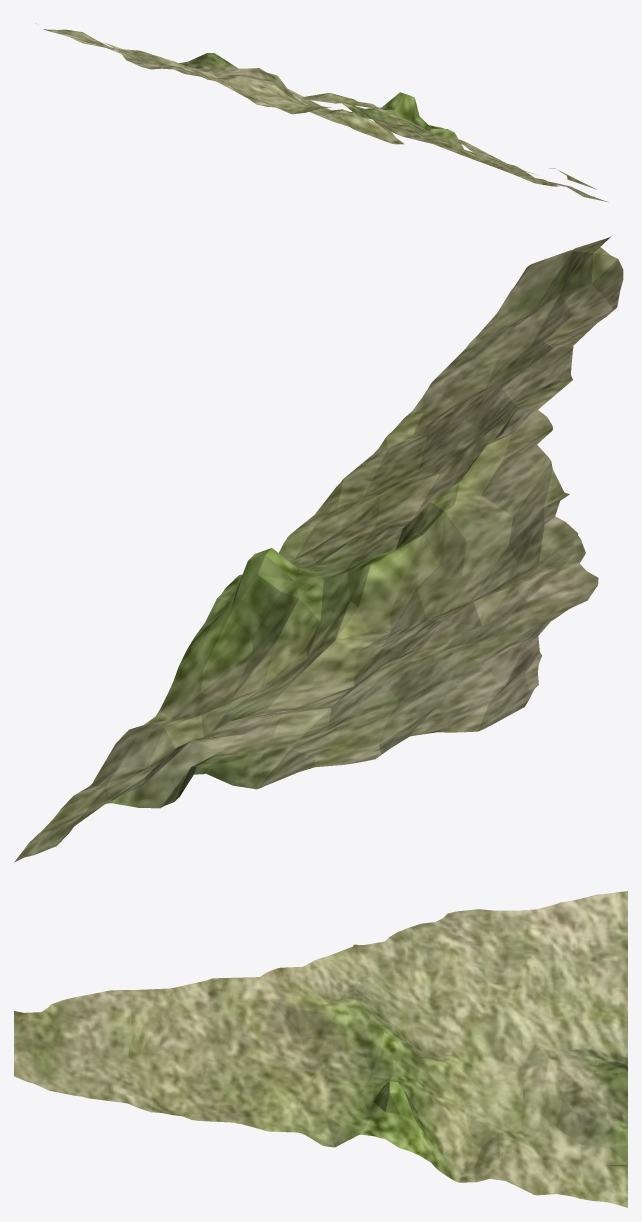
3 renders of one model, top to bottom at view 1: azimuth 30°, elevation 25°; view 2: azimuth 150°, elevation 25°; view 3: azimuth 270°, elevation 25°, orthographic. The views are drawn at different scales.
Bounding box in the file's own units: 3.39 × 1.78 × 5.9.
1 material, 1 textured.
